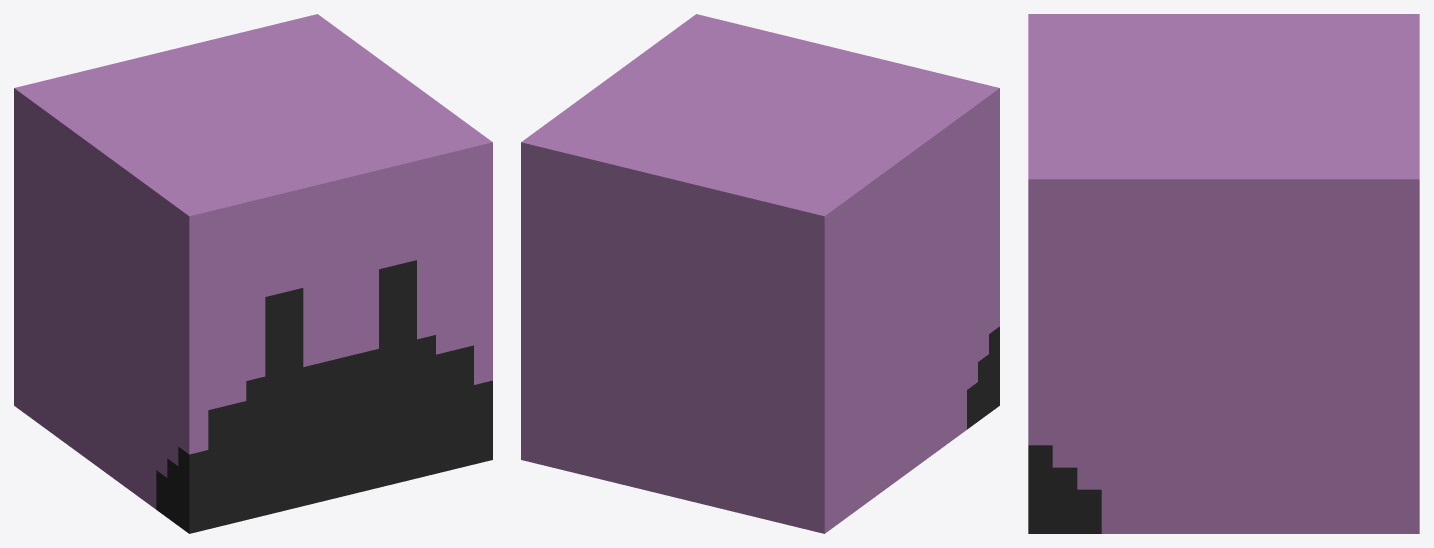
Rendered from Monster.fbx.
3 views of the same model, side by side, from view 1: azimuth 30°, elevation 25°; view 2: azimuth 150°, elevation 25°; view 3: azimuth 270°, elevation 25° (orthographic). The views are drawn at different scales.
Parts seen in each view (by area): view 1: monster; view 2: monster; view 3: monster.
Part boxes in pixels (x1,y1,x2,y2): monster: (14, 14, 492, 533); monster: (521, 14, 999, 533); monster: (1028, 14, 1419, 533).
Size of the model in its own units: 1.6 by 1.6 by 1.6.
